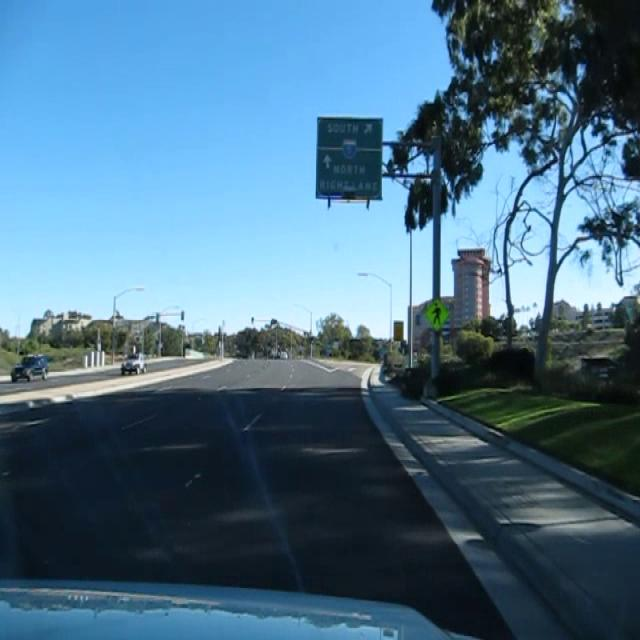pedestrianCrossing: (422, 295, 451, 332)
